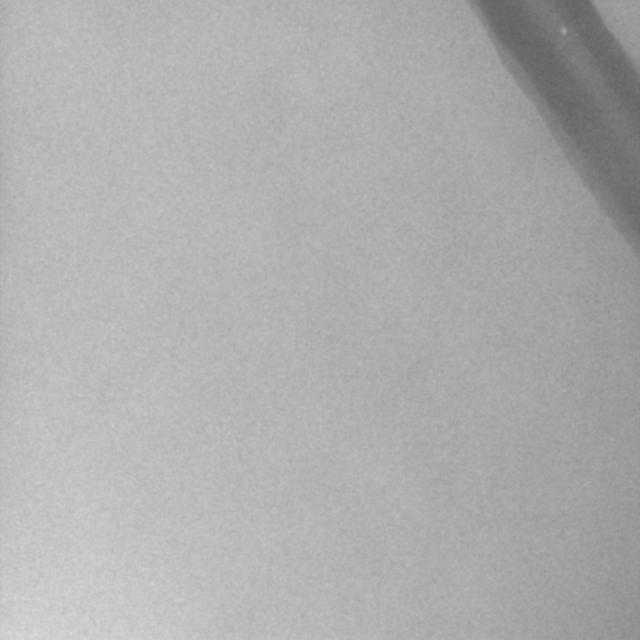air hole: (557, 24, 570, 38)
